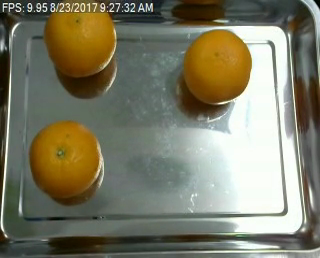Orange: (27, 120, 102, 199), (44, 1, 117, 76), (183, 28, 252, 104)
